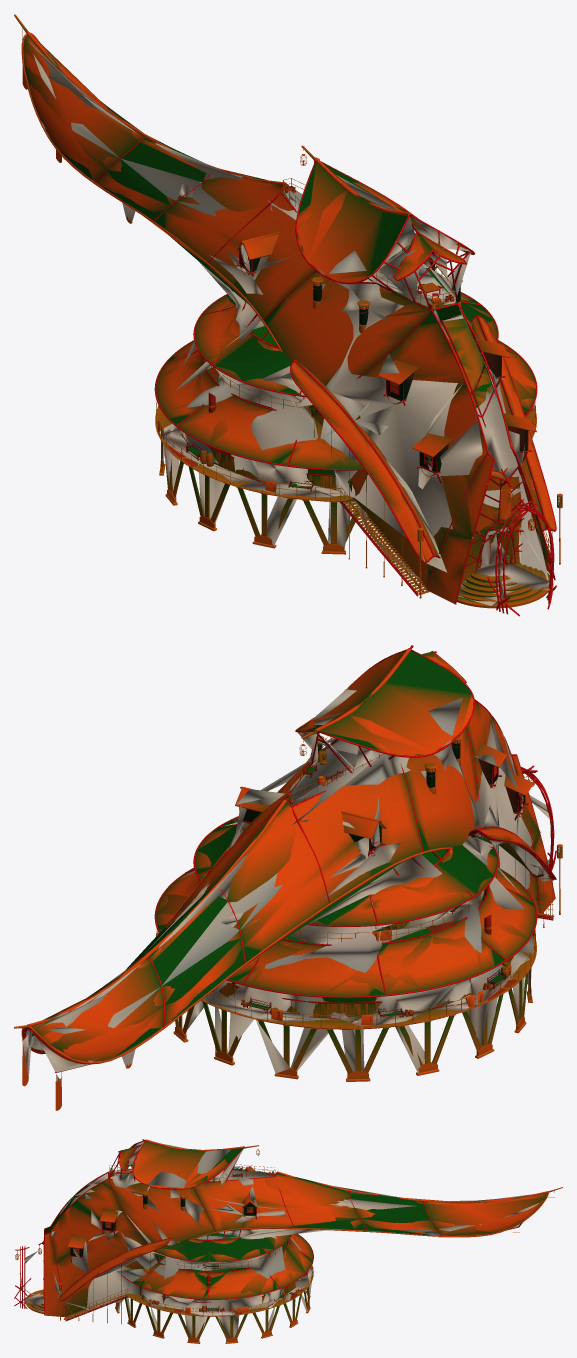
Rendered from KB3D_GAE_BldgLG_F.glb.
3 renders of one model, top to bottom at view 1: azimuth 30°, elevation 25°; view 2: azimuth 150°, elevation 25°; view 3: azimuth 270°, elevation 25°, orthographic. The views are drawn at different scales.
Parts seen in each view (by area): view 1: L0, L2, L1; view 2: L0, L2, L1; view 3: L0, L1, L2.
Boxes of the visible parts, x1=… form: L0: x1=14, y1=14, x2=562, y2=616; L2: x1=29, y1=41, x2=552, y2=605; L1: x1=23, y1=38, x2=558, y2=609; L0: x1=14, y1=645, x2=562, y2=1110; L2: x1=22, y1=660, x2=554, y2=1081; L1: x1=14, y1=648, x2=562, y2=1109; L0: x1=14, y1=1139, x2=562, y2=1343; L1: x1=15, y1=1141, x2=548, y2=1339; L2: x1=20, y1=1141, x2=538, y2=1342.
Size of the model in its own units: 33.3 by 30.02 by 90.43.
